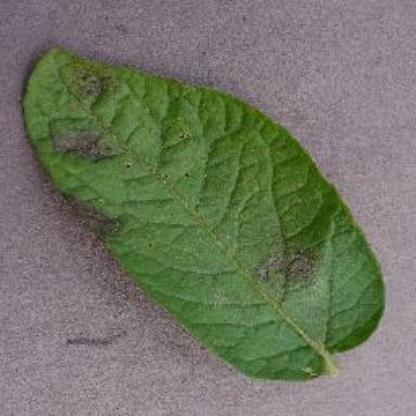Late-Blight: (16, 19, 398, 406)
